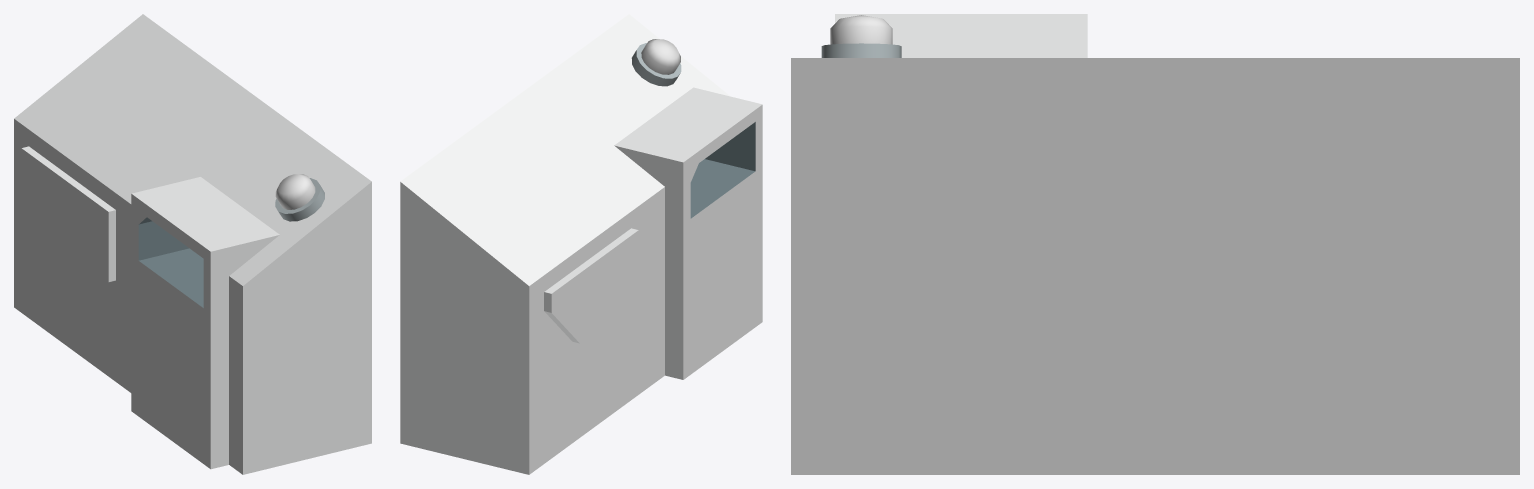
File: Station.fbx
The picture shows the model from 3 angles, left to right: view 1: azimuth 30°, elevation 25°; view 2: azimuth 150°, elevation 25°; view 3: azimuth 270°, elevation 25°; orthographic projection. The views are drawn at different scales.
Visible parts, largest first — view 1: pCube46, pCube27, Light, LightBase; view 2: pCube46, pCube27, Light, LightBase; view 3: pCube46, Light, LightBase.
Boxes of the visible parts, bbox=[...] form: pCube46: bbox=[14, 14, 371, 474]; pCube27: bbox=[21, 146, 115, 282]; Light: bbox=[275, 174, 315, 209]; LightBase: bbox=[275, 178, 324, 221]; pCube46: bbox=[400, 14, 762, 474]; pCube27: bbox=[544, 228, 638, 343]; Light: bbox=[641, 39, 680, 74]; LightBase: bbox=[631, 43, 681, 86]; pCube46: bbox=[791, 14, 1519, 474]; Light: bbox=[830, 15, 892, 44]; LightBase: bbox=[821, 43, 901, 57].
Bounding box in the file's own units: 18.07 × 30.88 × 48.61.
2 materials, 1 textured.
